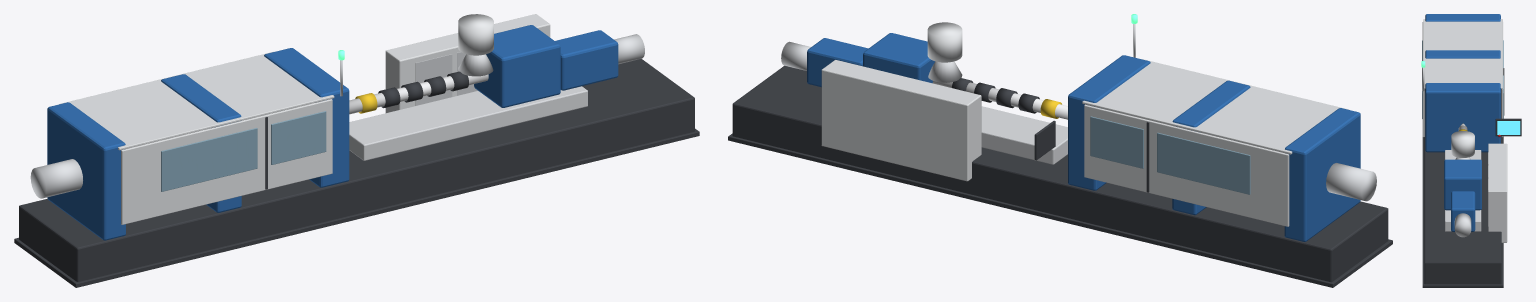
File: injection.glb
3 renders of one model, left to right at view 1: azimuth 30°, elevation 25°; view 2: azimuth 150°, elevation 25°; view 3: azimuth 270°, elevation 25°, orthographic. The views are drawn at different scales.
Visible parts, largest first — view 1: Cone; view 2: Cone; view 3: Cone.
Boxes of the visible parts, <box> form: Cone: <box>14,14,699,287</box>; Cone: <box>728,14,1392,287</box>; Cone: <box>1421,14,1521,287</box>.
Size of the model in its own units: 13.76 by 3.58 by 2.9.
